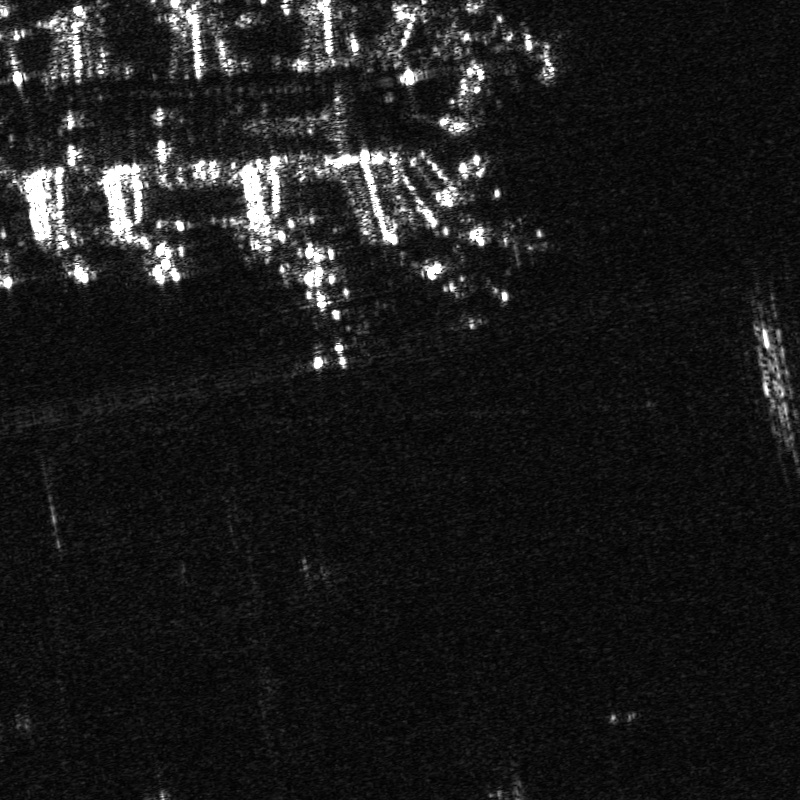A320/321: (279, 266, 373, 376), (459, 211, 552, 272)
Boeing737: (412, 251, 526, 314)
